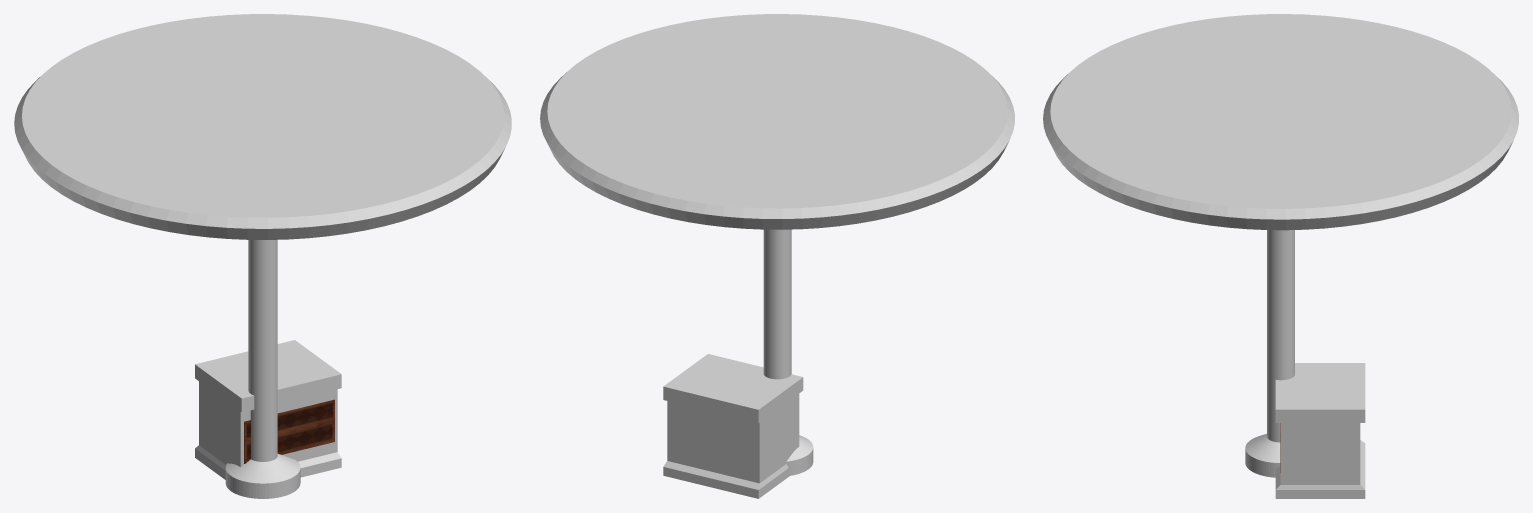
File: table.fbx
3 views of the same model, side by side, from view 1: azimuth 30°, elevation 25°; view 2: azimuth 150°, elevation 25°; view 3: azimuth 270°, elevation 25° (orthographic). The views are drawn at different scales.
Parts seen in each view (by area): view 1: Cylinder, Cube_329_, Plane; view 2: Cylinder, Cube_329_; view 3: Cylinder, Cube_329_.
Boxes of the visible parts, bbox=[...] form: Cylinder: bbox=[14, 14, 511, 498]; Cube_329_: bbox=[195, 340, 341, 479]; Plane: bbox=[244, 399, 334, 463]; Cylinder: bbox=[540, 14, 1014, 475]; Cube_329_: bbox=[663, 354, 803, 498]; Cylinder: bbox=[1043, 14, 1518, 477]; Cube_329_: bbox=[1275, 363, 1365, 498].
Size of the model in its own units: 610 by 498 by 610.
